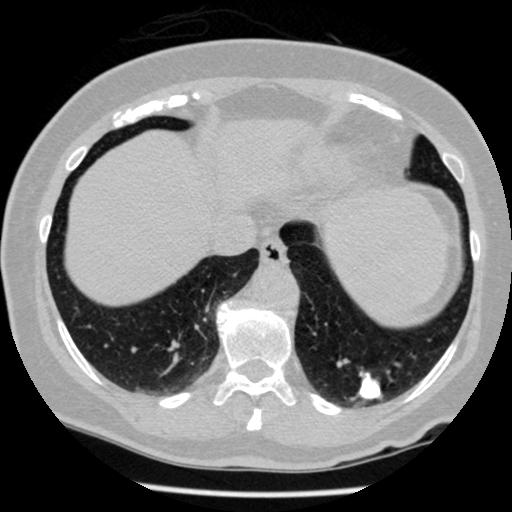nodule: (356, 375, 383, 402)
